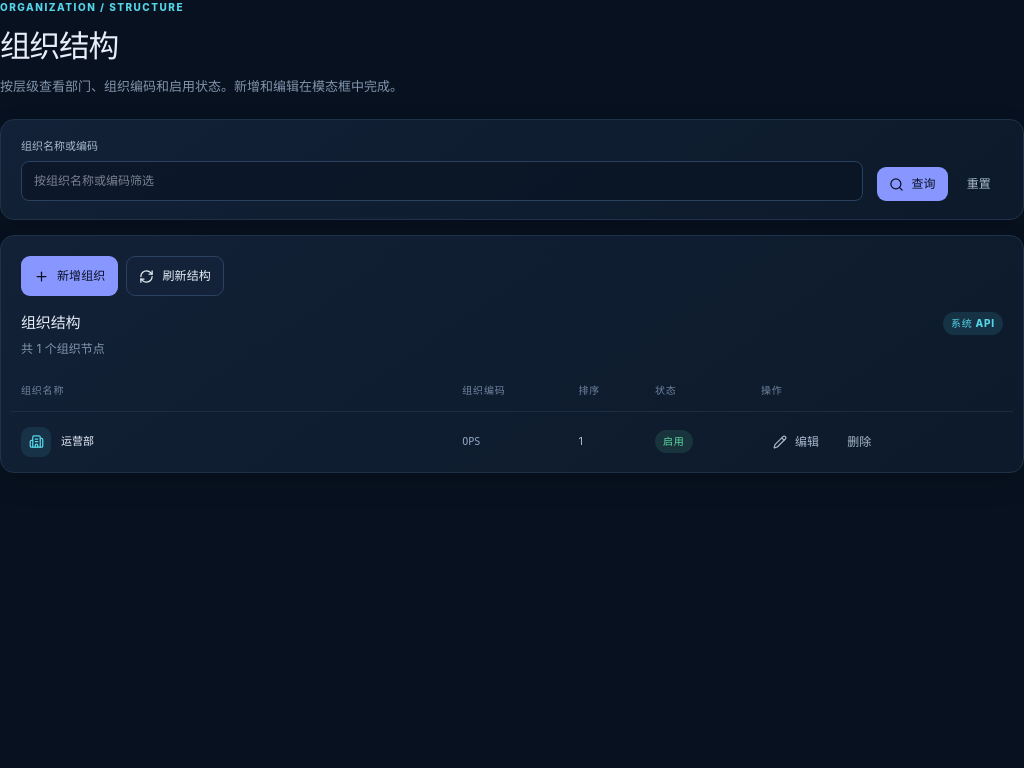
DepartmentsPage › 组织删除失败时显示业务码诊断
expect the text "运营部" is shown: met, box [61,433,94,450]
Click the button "删除". click: point(859, 442)
box: [835,425,884,459]
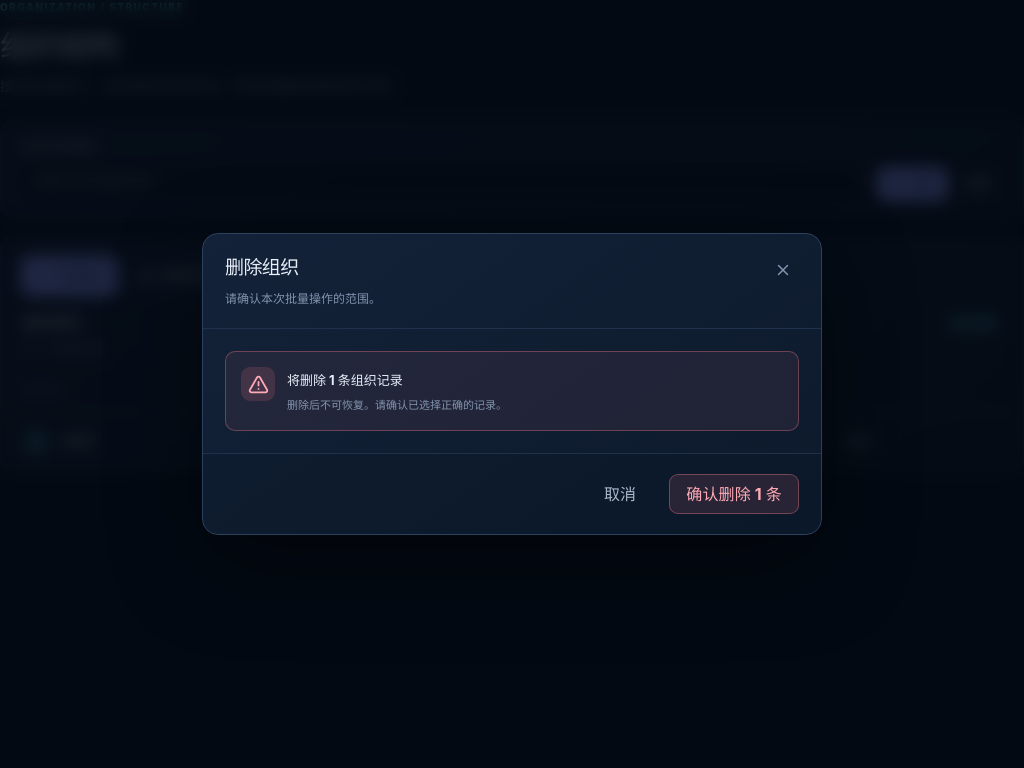
Click the button "确认删除 1 条". click: point(734, 494)
box: [669,474,799,514]
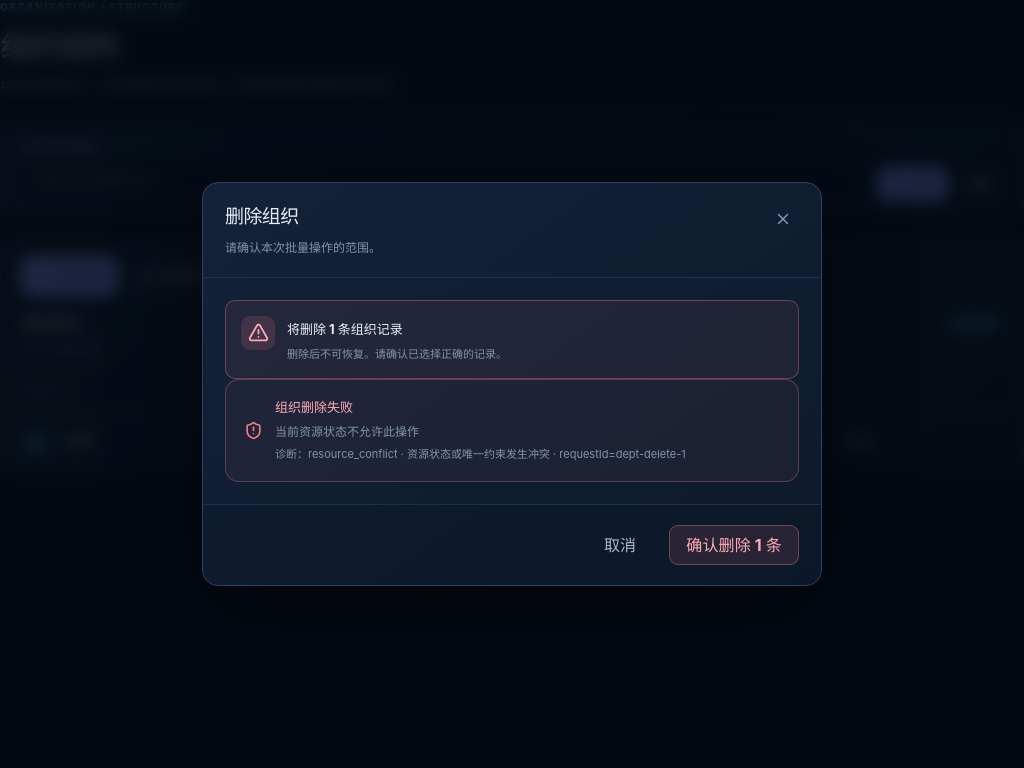
expect the text "requestId=dept-delete-1" is shown: met, box [308,447,686,461]
